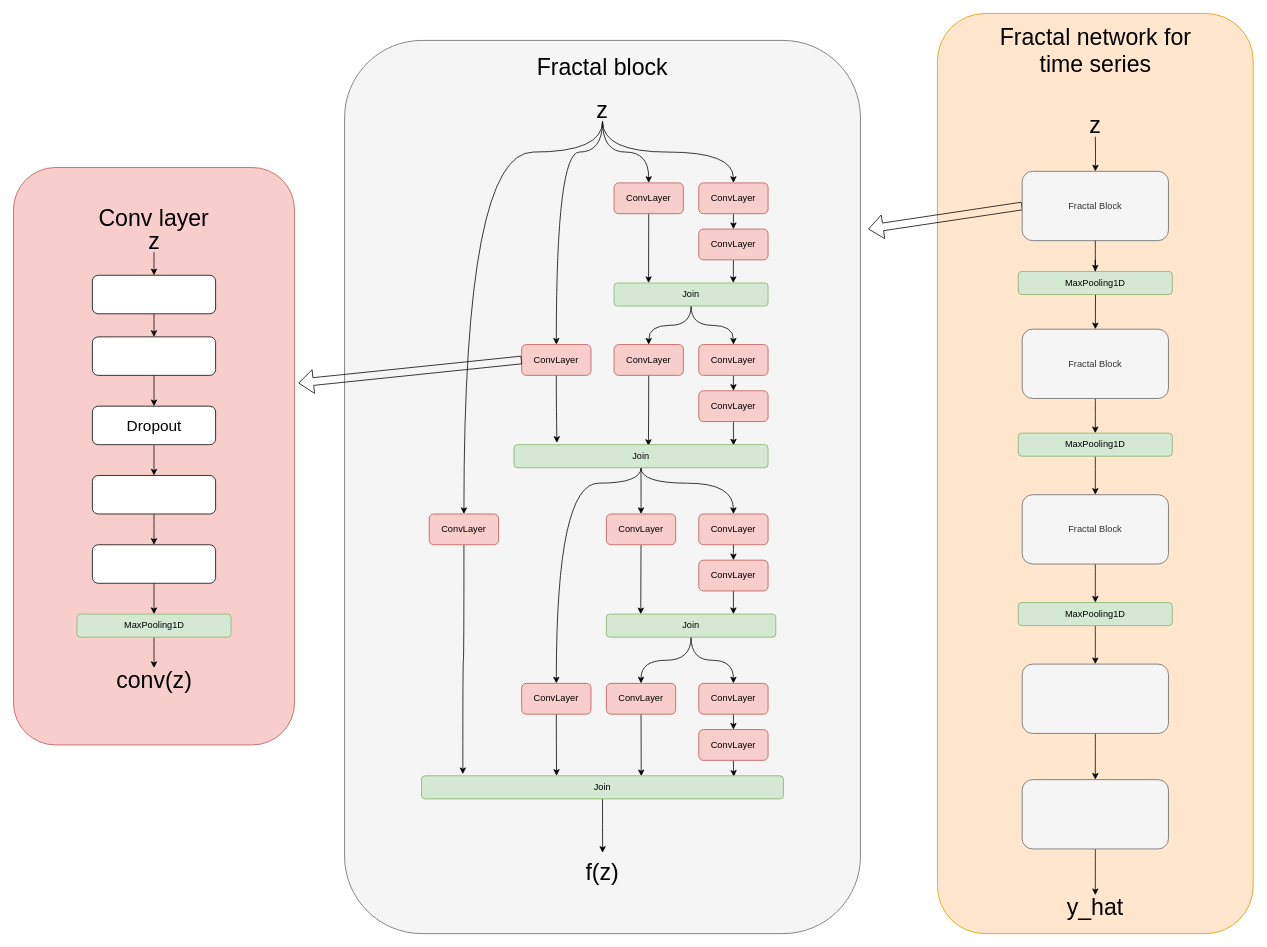
Image size: 1267x947. Some labels were removed from this diagram. The shapes that lost their labels are listed below. From the top down, each one's centre as x and y in pixels, then its label:
At point 154,294: "ZeroPad1d".
At point 154,355: "Conv1d".
At point 154,494: "BatchNorm1d".
At point 154,563: "ReLU".
At point 1094,698: "LSTM".
At point 1094,814: "Linear".
